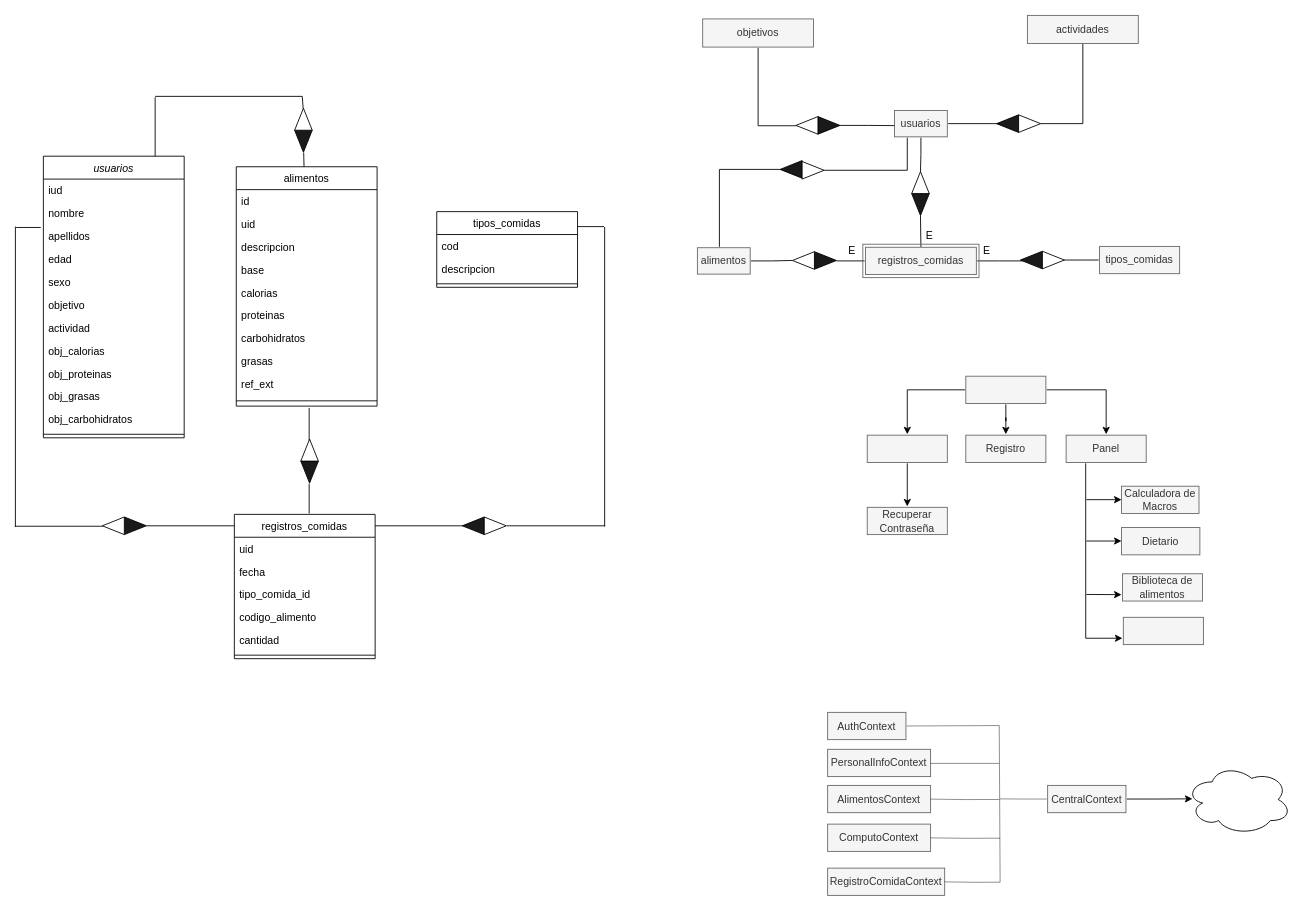
Image size: 1307x911. Some labels were removed from this diagram. The shapes that lost their labels are listed below. From the top down, each one's box as (x1, y1, x2, y2) in pixels, then its label:
(965, 375, 1046, 403): Inicio
(866, 434, 947, 462): Login
(1122, 616, 1203, 645): Evolución
(1185, 763, 1291, 835): WEB
